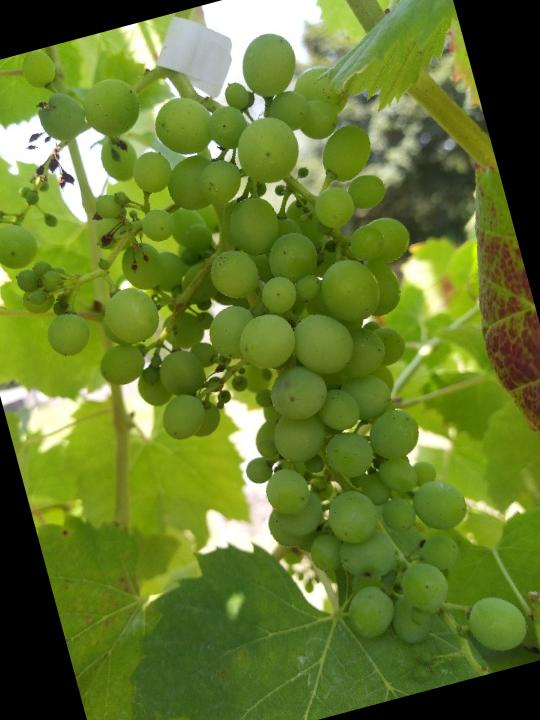grape: (0, 0, 534, 720)
